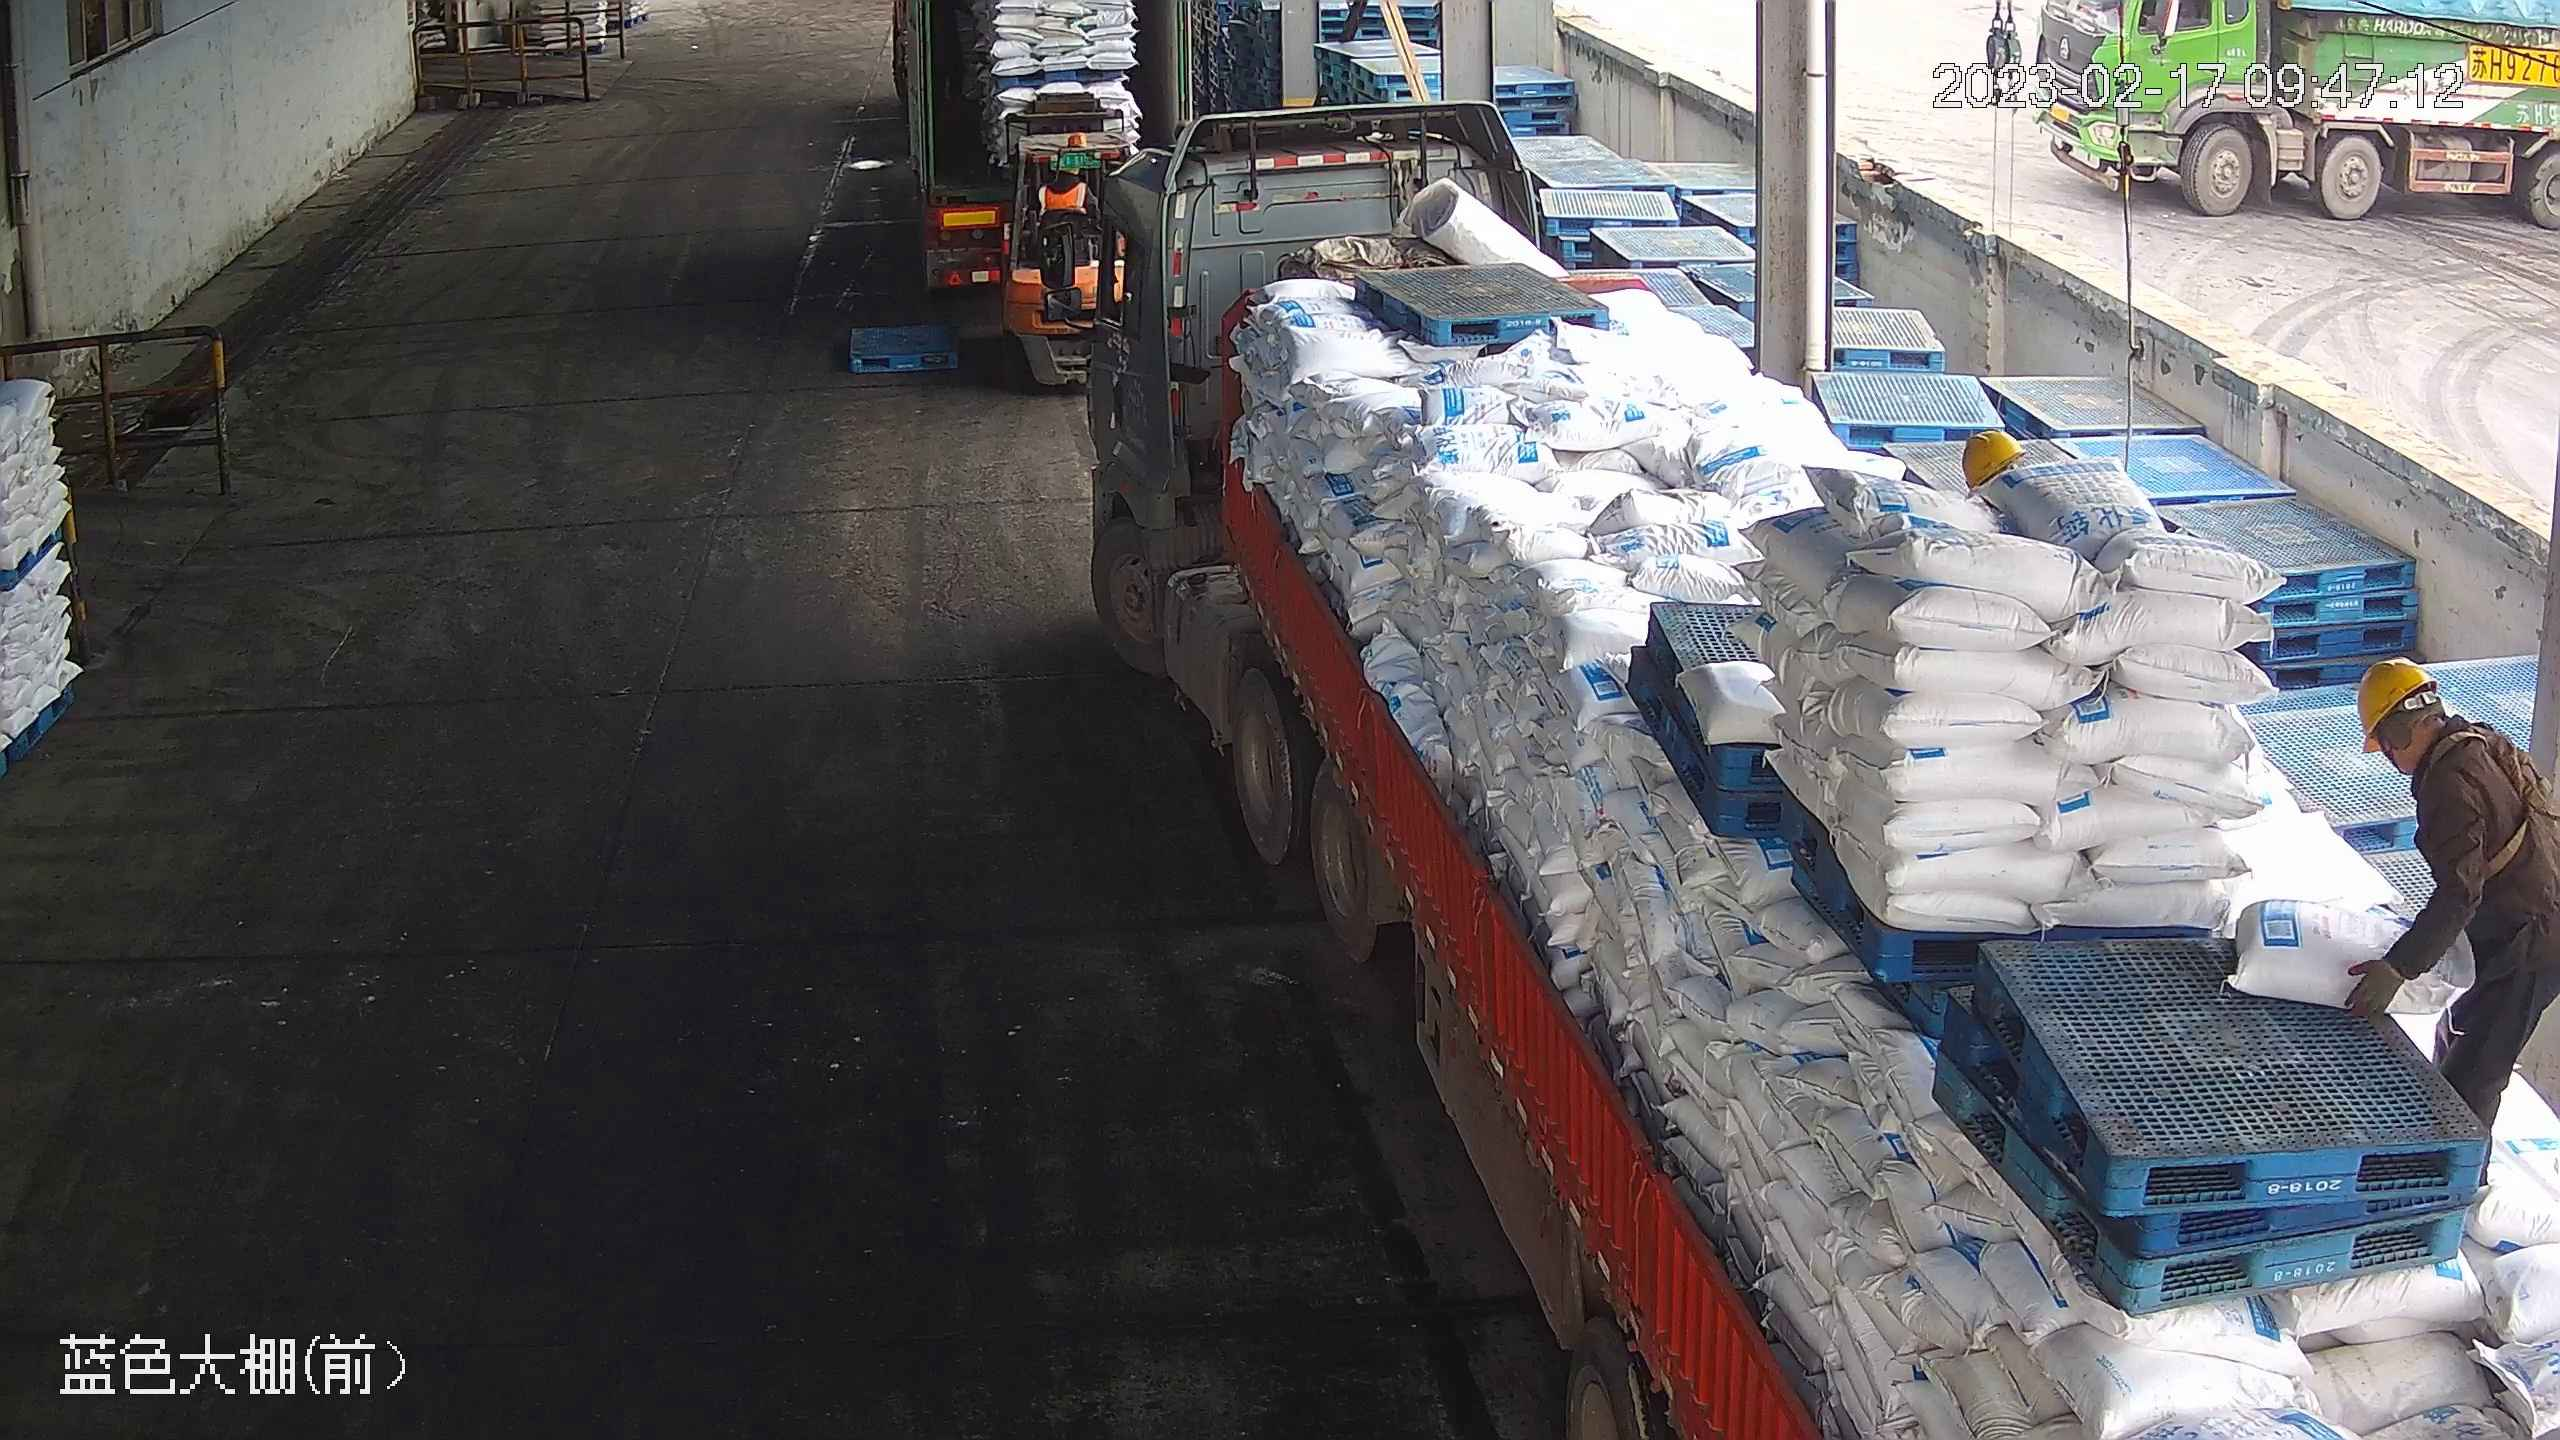belt: (2427, 732, 2546, 877)
head: (2344, 652, 2528, 814)
helmet: (2345, 653, 2435, 744), (1956, 428, 2025, 489)
people: (2341, 653, 2560, 1213)
truck: (1078, 150, 2551, 1437), (879, 1, 1198, 347)
